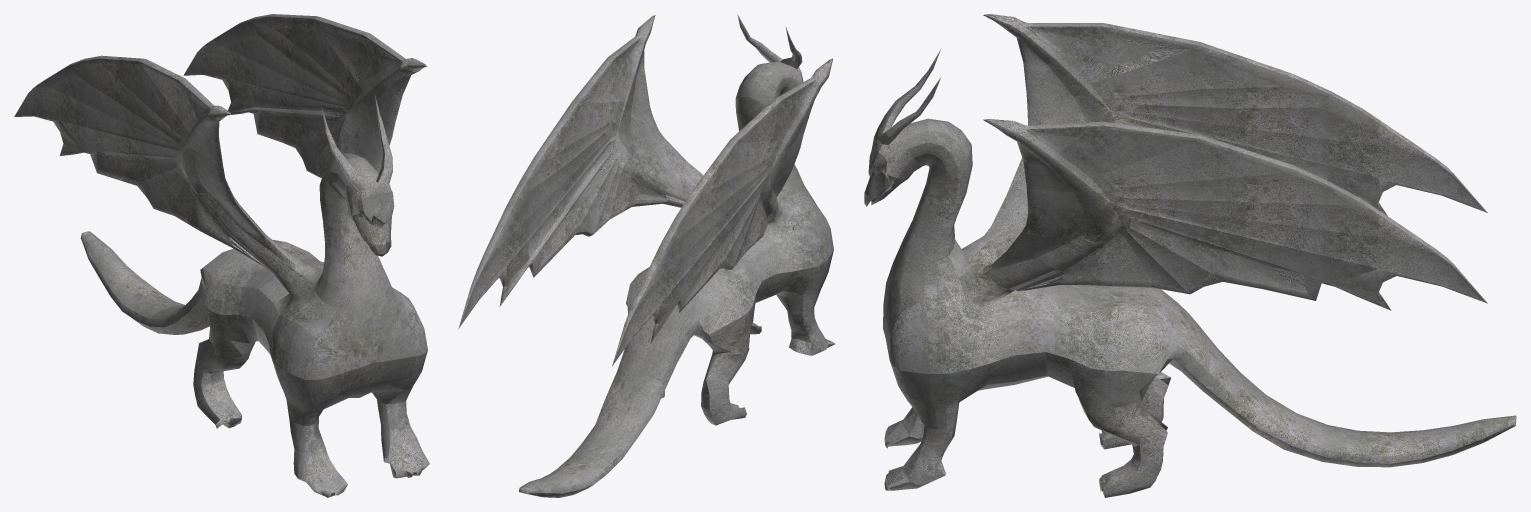
The model's file is LightDragon.fbx.
3 renders of one model, left to right at view 1: azimuth 30°, elevation 25°; view 2: azimuth 150°, elevation 25°; view 3: azimuth 270°, elevation 25°, orthographic. The views are drawn at different scales.
Visible parts, largest first — view 1: Box01; view 2: Box01; view 3: Box01.
Boxes of the visible parts, left/top/right/bottom form: Box01: left=14, top=14, right=429, bottom=497; Box01: left=458, top=14, right=835, bottom=497; Box01: left=864, top=14, right=1516, bottom=497.
Bounding box in the file's own units: 199 × 335 × 488.
